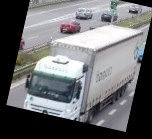truck: (20, 8, 144, 131)
